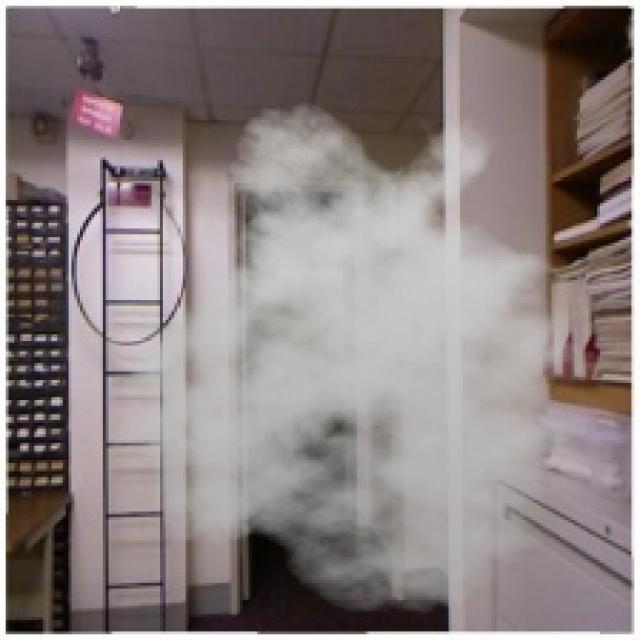Smoke: (94, 100, 637, 614)
